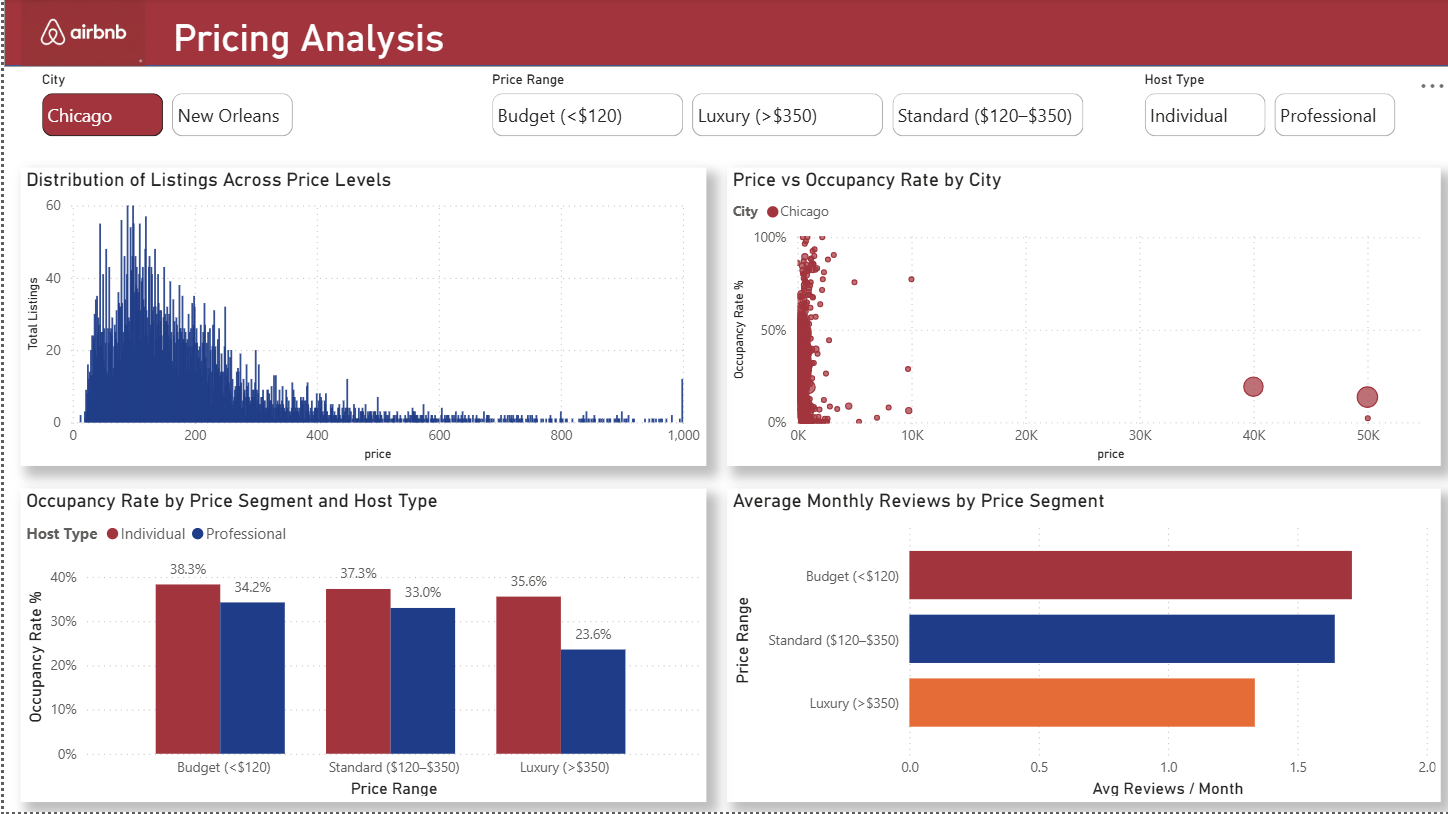

What the dashboard file says about the page in this screenshot:
{"tool":"powerbi","page":{"name":"03 -  Pricing Analysis","canvas":[1280,720],"ordinal":2},"visuals":[{"type":"group","id":"g1","title":"Group 1","box":[0,0,1280.2,59.9],"z":0},{"type":"textbox","box":[144.7,10.2,838.9,49.7],"z":1000},{"type":"scatterChart","title":"Price vs Occupancy Rate by City","fields":{"Series":["airbnb_clean_dataset.City"],"Size":["Kpi.Total Listings"],"X":["airbnb_clean_dataset.price"],"Y":["Kpi.Occupancy Rate %"]},"box":[639.5,149.9,631.6,264],"z":2000},{"type":"shape","box":[0,0,1280.2,60.6],"z":3000,"group":"g1"},{"type":"clusteredBarChart","title":"Average Monthly Reviews by Price Segment","fields":{"Category":["airbnb_clean_dataset.Price Range"],"Y":["Kpi.Avg Reviews / Month"]},"box":[639.5,433.9,631.6,277.3],"z":3000},{"type":"columnChart","title":"Distribution of Listings Across Price Levels","fields":{"Y":["Kpi.Total Listings"],"Category":["airbnb_clean_dataset.price"]},"box":[14.6,149.9,606.4,264],"z":4000},{"type":"clusteredColumnChart","title":"Occupancy Rate by Price Segment and Host Type","fields":{"Category":["airbnb_clean_dataset.Price Range"],"Y":["Kpi.Occupancy Rate %"],"Series":["airbnb_clean_dataset.Host Type"]},"box":[14.6,433.9,606.4,277.3],"z":5000},{"type":"advancedSlicerVisual","fields":{"Values":["airbnb_clean_dataset.City"]},"box":[26.5,65,237.5,63.7],"z":6000},{"type":"advancedSlicerVisual","fields":{"Values":["airbnb_clean_dataset.Price Range"]},"box":[424.6,65,537.4,63.7],"z":7000},{"type":"image","box":[14.6,0.6,111.1,59.9],"z":8000,"group":"g1"},{"type":"advancedSlicerVisual","fields":{"Values":["airbnb_clean_dataset.Host Type"]},"box":[1001.7,65,237.5,63.7],"z":8000}]}

Visuals, with their boxes in screenshot pixels (x1, y1, x2, y2), scaled from the page's 1280x720 canvas onto the 1448x814 screenshot:
"Group 1" group: 0:0:1447:68
textbox: 164:12:1113:68
"Price vs Occupancy Rate by City" scatterChart: 723:169:1438:468
shape: 0:0:1447:69
"Average Monthly Reviews by Price Segment" clusteredBarChart: 723:491:1438:804
"Distribution of Listings Across Price Levels" columnChart: 17:169:703:468
"Occupancy Rate by Price Segment and Host Type" clusteredColumnChart: 17:491:703:804
advancedSlicerVisual - airbnb_clean_dataset.City: 30:73:299:146
advancedSlicerVisual - airbnb_clean_dataset.Price Range: 480:73:1088:146
image: 17:1:142:68
advancedSlicerVisual - airbnb_clean_dataset.Host Type: 1133:73:1402:146
